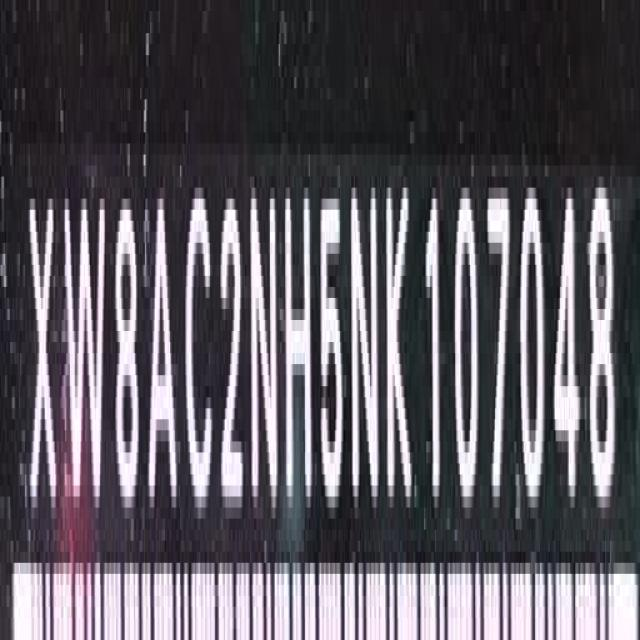0: (521, 176, 549, 516), (456, 176, 481, 515)
1: (424, 167, 443, 518)
2: (218, 187, 245, 520)
4: (552, 176, 582, 516)
5: (318, 179, 344, 516)
7: (486, 174, 512, 514)
8: (591, 178, 619, 512), (115, 190, 140, 517)
A: (146, 183, 177, 525)
C: (186, 188, 216, 520)
H: (286, 179, 314, 517)
K: (387, 168, 415, 531)
N: (350, 172, 381, 514), (249, 183, 280, 518)
W: (62, 187, 104, 526)
X: (26, 193, 56, 526)
